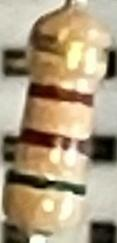Black: (20, 127, 92, 158)
Brown: (26, 81, 96, 108)
Green: (6, 169, 86, 197)
Side-Gold: (27, 25, 111, 71)
